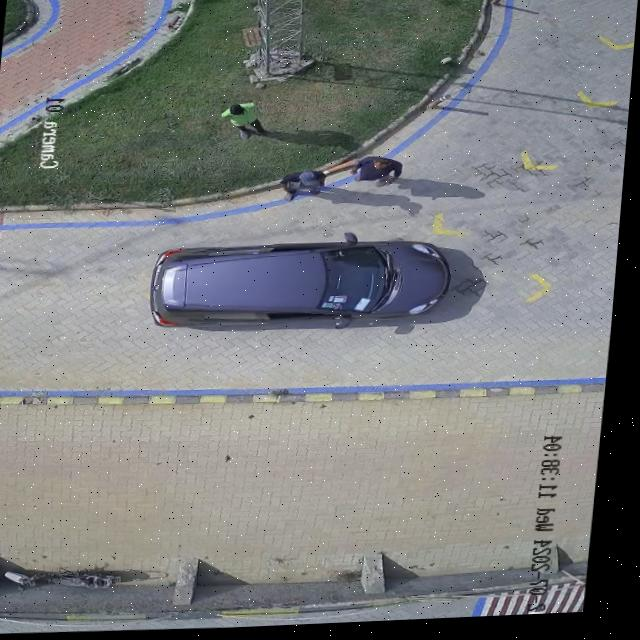car: (154, 237, 453, 331)
